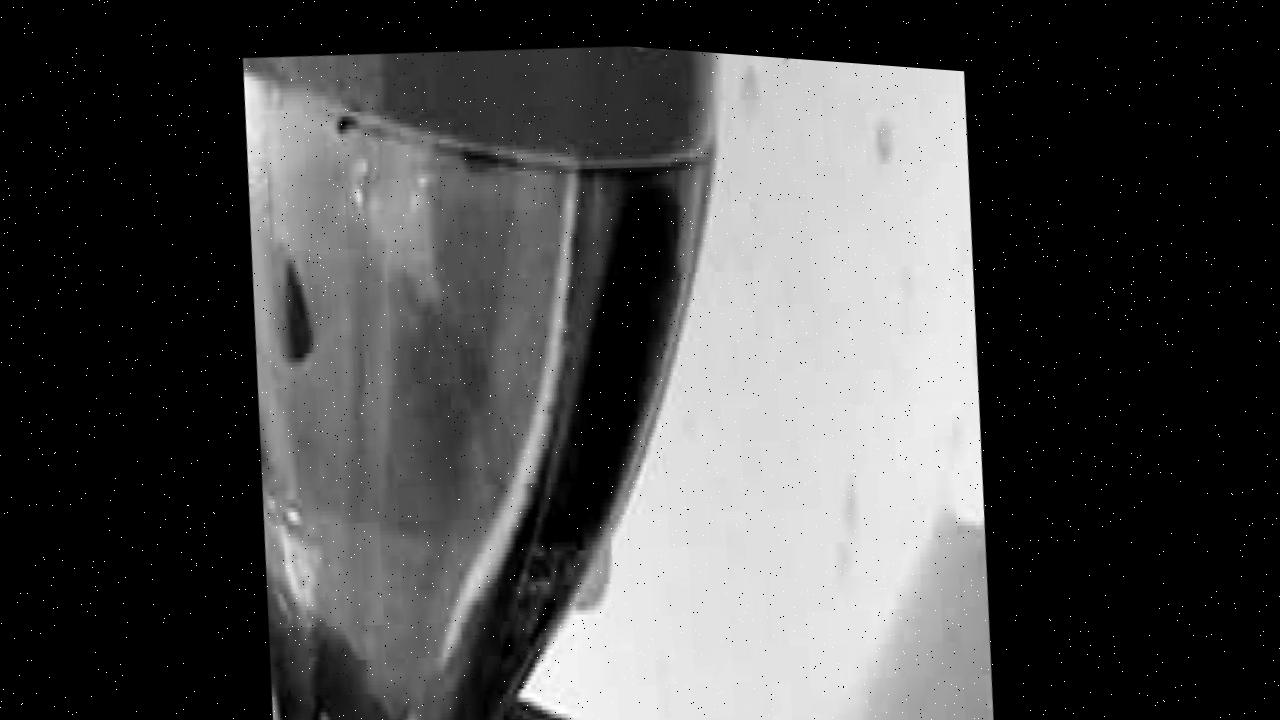drinks Stains: (420, 196, 1028, 720)
